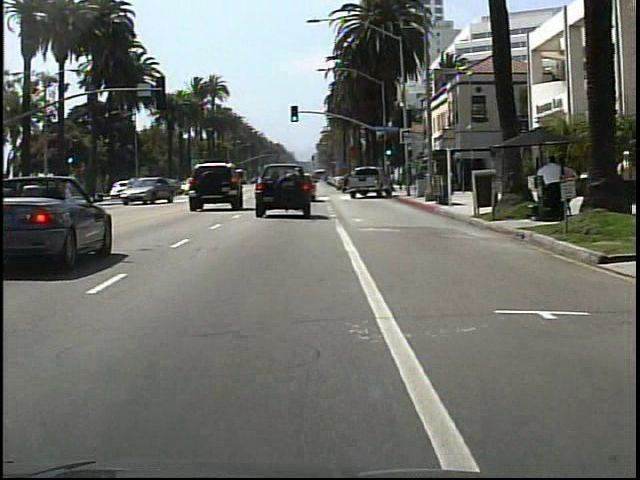person: (535, 154, 561, 223), (557, 155, 582, 225)
